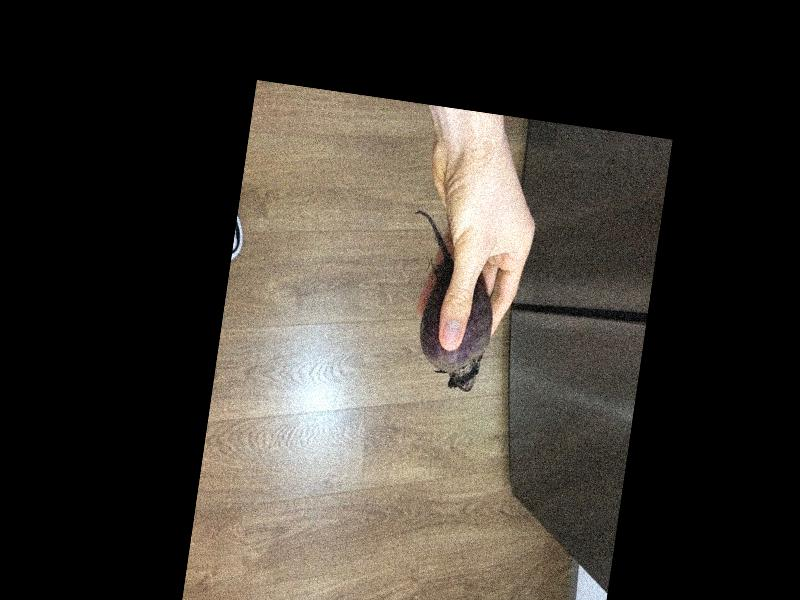Beet: (390, 211, 506, 395)
